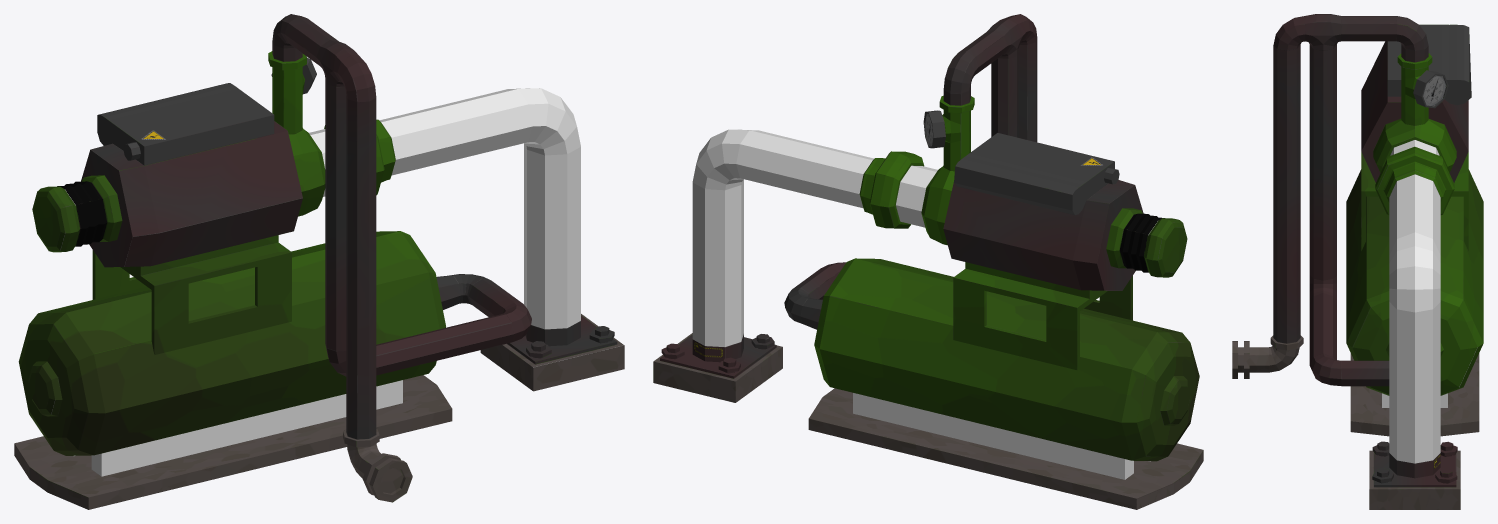
Rendered from nasos.fbx.
The picture shows the model from 3 angles, left to right: view 1: azimuth 30°, elevation 25°; view 2: azimuth 150°, elevation 25°; view 3: azimuth 270°, elevation 25°; orthographic projection. The views are drawn at different scales.
Visible parts, largest first — view 1: Cube, Cube.001, Cube.002; view 2: Cube, Cube.001, Cube.002; view 3: Cube, Cube.001, Cube.002.
Part boxes in pixels (x1,y1,x2,y2): Cube: [18, 14, 617, 502]; Cube.001: [14, 375, 452, 509]; Cube.002: [480, 314, 624, 391]; Cube: [660, 14, 1199, 479]; Cube.001: [808, 388, 1203, 509]; Cube.002: [653, 333, 782, 402]; Cube: [1232, 14, 1483, 487]; Cube.001: [1350, 353, 1479, 436]; Cube.002: [1369, 450, 1460, 509].
Size of the model in its own units: 1227 by 877 by 549.
7 materials, 6 textured.
